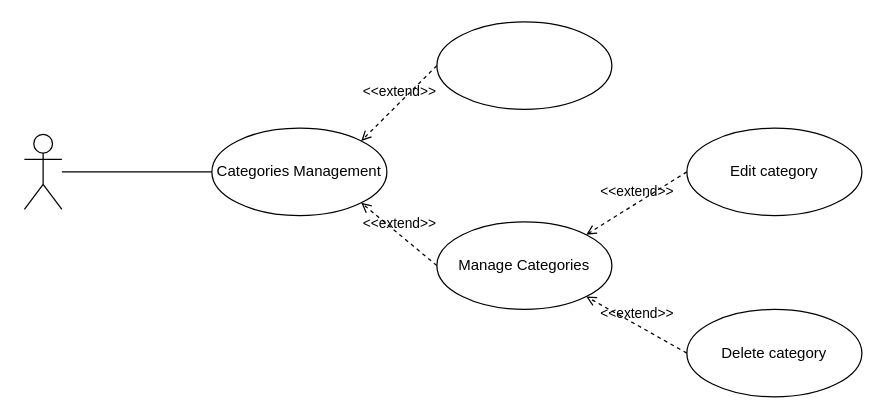
The diagram is 884 pixels wide and 419 high, and some of its shapes have lost their labels. The shapes that lost their labels are listed below. From the top down, each one's centre as x and y in pixels, then its label:
pixel 524 65: Add category
pixel 42 171: Admin
